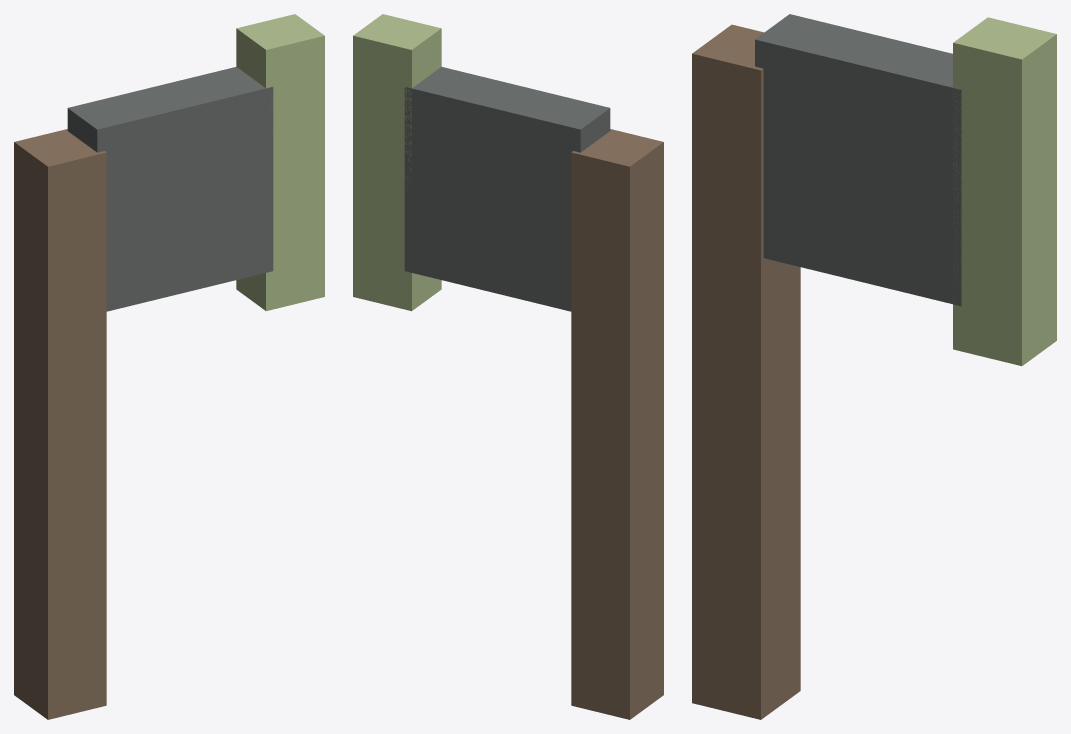
File: axe.glb
3 views of the same model, side by side, from view 1: azimuth 30°, elevation 25°; view 2: azimuth 150°, elevation 25°; view 3: azimuth 330°, elevation 25° (orthographic). The views are drawn at different scales.
Visible parts, largest first — view 1: Haft, Head, Edge; view 2: Haft, Head, Edge; view 3: Haft, Head, Edge.
Part boxes in pixels (x1,y1,x2,y2): Haft: [14, 129, 106, 719]; Head: [67, 66, 273, 311]; Edge: [236, 14, 324, 311]; Haft: [571, 129, 663, 719]; Head: [404, 66, 610, 311]; Edge: [353, 14, 441, 311]; Haft: [692, 24, 800, 719]; Head: [755, 14, 961, 306]; Edge: [953, 17, 1056, 365].
Bounding box in the file's own units: 0.38 × 0.8 × 0.08.
